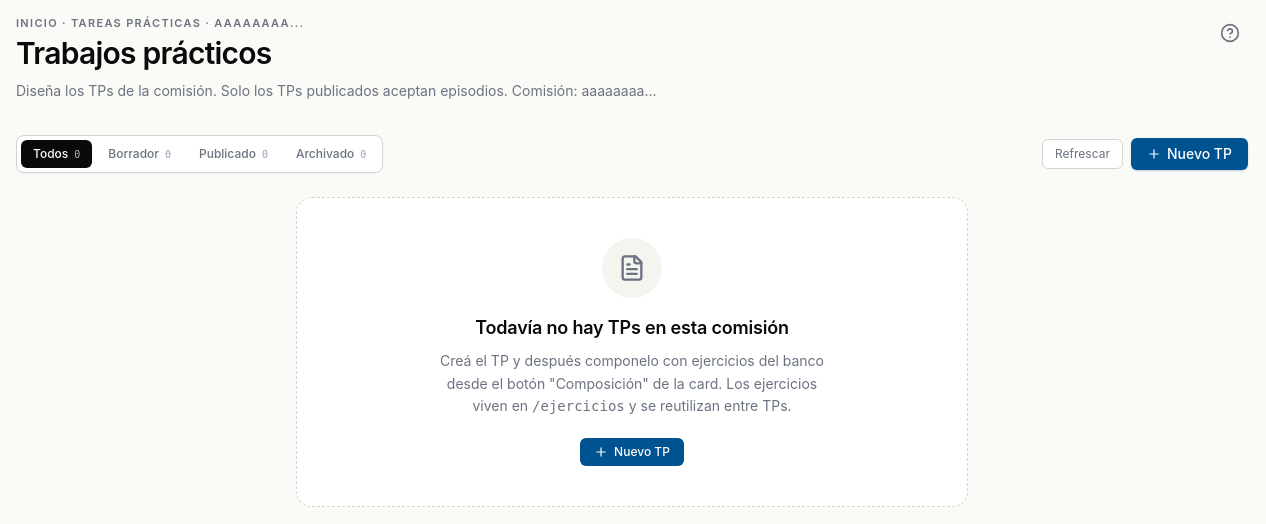
it: TareasPracticasView — hallazgo #12 empty state sensible al filtro › 'Ver todos' vuelve al filtro Todos
The width and height of the screenshot is (1266, 524).
Expected: the heading "Todavía no hay TPs en esta comisión" is shown, [475,317,789,338]
What coordinates should you click on to do the following:
click the tab "Publicado0"
I would click on:
 (233, 154)
Its box is [187,140,280,168].
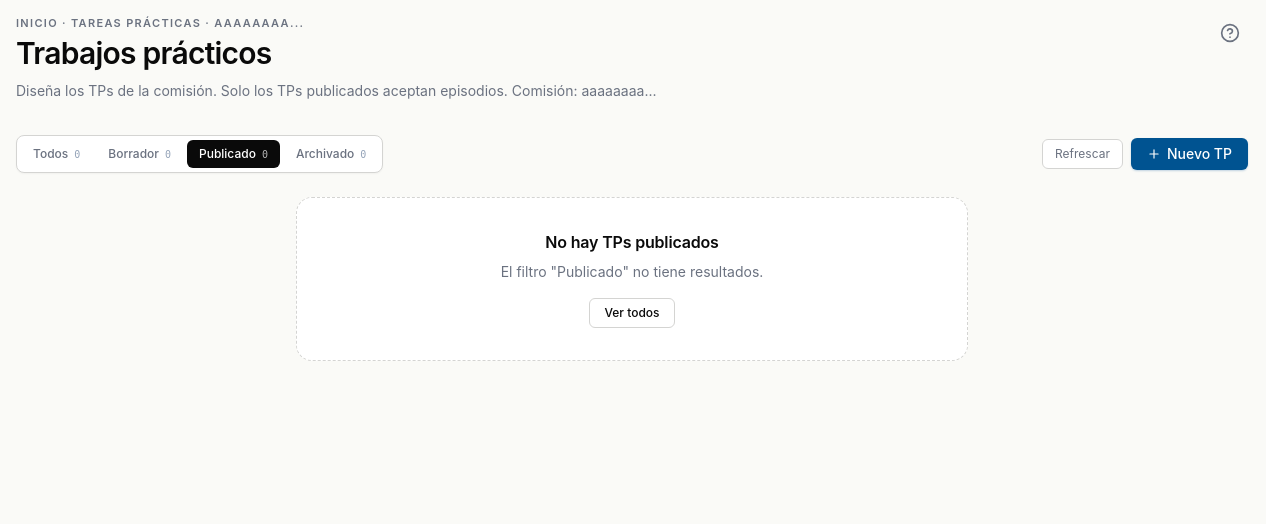
Expected: the element with test id "tp-empty-filtrado" is shown, [296,197,968,361]
What coordinates should you click on to do the following:
click the button "Ver todos"
I would click on:
 (632, 313)
Its box is [590,298,675,328].
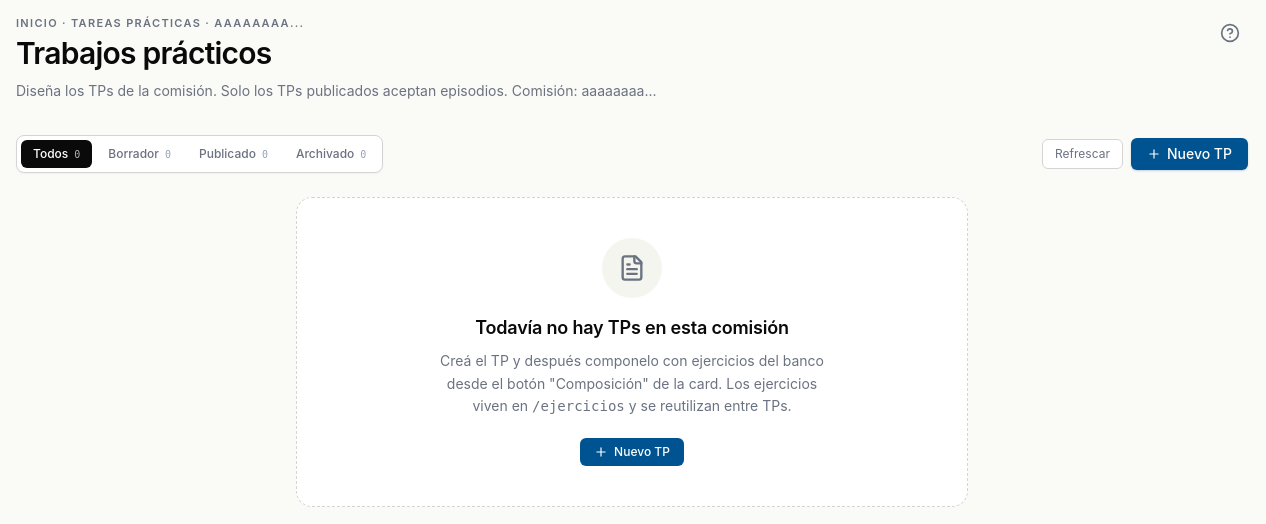
Expected: the element with test id "tp-empty-filtrado" is gone
